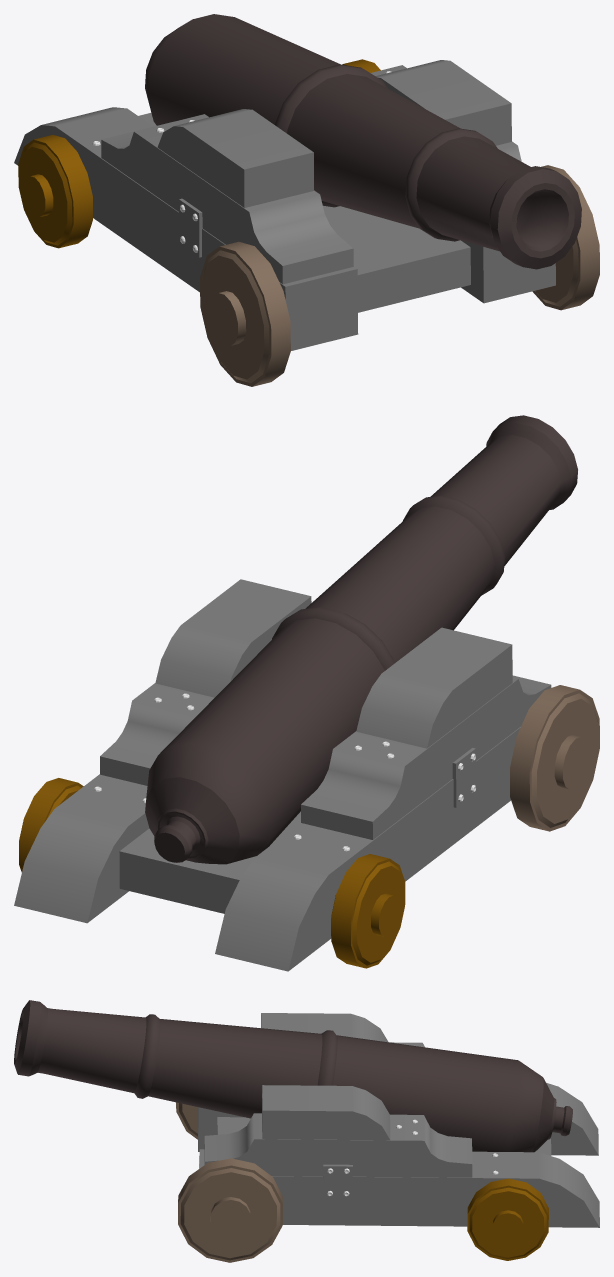
File: canon.fbx
3 renders of one model, top to bottom at view 1: azimuth 30°, elevation 25°; view 2: azimuth 150°, elevation 25°; view 3: azimuth 270°, elevation 25°, orthographic. The views are drawn at different scales.
Parts seen in each view (by area): view 1: Base, Canon, grande_roue, roue_petite; view 2: Base, Canon, grande_roue, roue_petite; view 3: Canon, Base, grande_roue, roue_petite.
Boxes of the visible parts, x1,y1,x2,y2 form: Base: (14,60,555,350); Canon: (145,14,581,269); grande_roue: (200,165,599,386); roue_petite: (18,59,380,248); Base: (14,579,551,971); Canon: (145,415,577,864); grande_roue: (510,685,599,831); roue_petite: (19,778,405,968); Canon: (14,1000,572,1152); Base: (197,1013,599,1227); grande_roue: (176,1102,282,1262); roue_petite: (467,1178,548,1260).
Size of the model in its own units: 2.46 by 1.78 by 4.72.
